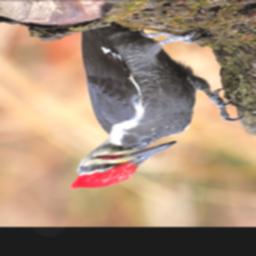Woodpecker: (71, 23, 246, 190)
